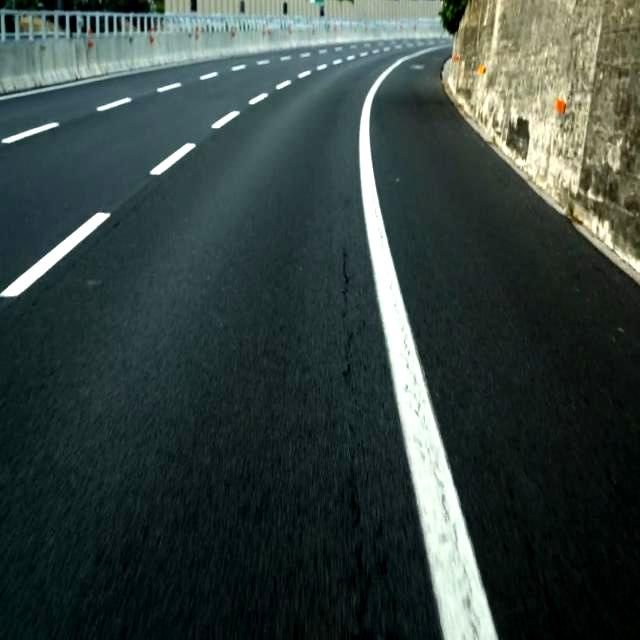lane: (359, 46, 499, 640), (0, 213, 110, 298), (150, 142, 196, 175), (211, 111, 240, 128)
road: (0, 47, 441, 639), (371, 50, 639, 639)
